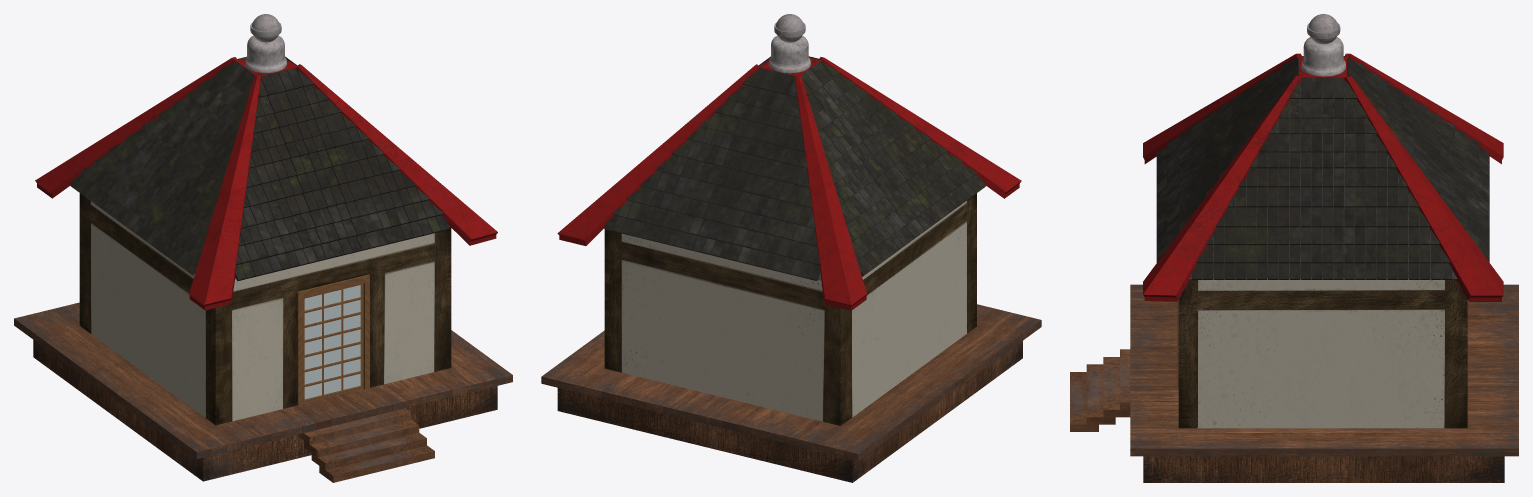
File: casa.obj
3 renders of one model, left to right at view 1: azimuth 30°, elevation 25°; view 2: azimuth 150°, elevation 25°; view 3: azimuth 270°, elevation 25°, orthographic. The views are drawn at different scales.
Parts seen in each view (by area): view 1: BaseCasa_BaseCasa_0, Tejas3_Tejas3_0, Tejas_Tejas_0, TejasSuperiores_TejasSuperiores_0, SoportePrincipal_SoportePrincipal_0, VentanasPuerta_VentanasPuerta_0, PanelE_PanelE_0, PanelO_PanelO_0, PanelJ_PanelJ_0, PuertaMarco_PuertaMarco_0, MarcoPuerta_MarcoPuerta_0, Escalones_Escaleras_0 (+10 smaller); view 2: BaseCasa_BaseCasa_0, Tejas1_Tejas1_0, Tejas_Tejas_0, TejasSuperiores_TejasSuperiores_0, SoportePrincipal_SoportePrincipal_0, PanelE_PanelE_0, PanelO_PanelO_0, PanelJ_PanelJ_0, TejasCortas3_TejasCortas3_0, BaseDeco2_BaseDeco2_0, TejasCortas2_TejasCortas2_0, PanelD_PanelD_0 (+4 smaller); view 3: BaseCasa_BaseCasa_0, Tejas2_Tejas2_0, TejasSuperiores_TejasSuperiores_0, SoportePrincipal_SoportePrincipal_0, Tejas3_Tejas3_0, Tejas1_Tejas1_0, PanelD_PanelD_0, PanelC_PanelC_0, ParteInferior_ParteInferior_0, object 26, TejasCortas1_TejasCortas1_0, BaseDeco2_BaseDeco2_0 (+23 smaller).
Boxes of the visible parts, x1,y1,x2,y2 form: BaseCasa_BaseCasa_0: (79,193,451,425); Tejas3_Tejas3_0: (235,68,449,281); Tejas_Tejas_0: (69,61,254,275); TejasSuperiores_TejasSuperiores_0: (35,57,497,310); SoportePrincipal_SoportePrincipal_0: (33,340,497,481); VentanasPuerta_VentanasPuerta_0: (304,285,360,399); PanelE_PanelE_0: (14,315,211,458); PanelO_PanelO_0: (29,311,226,455); PanelJ_PanelJ_0: (44,307,241,451); PuertaMarco_PuertaMarco_0: (303,283,363,403); MarcoPuerta_MarcoPuerta_0: (297,274,369,405); Escalones_Escaleras_0: (319,445,434,482); BaseCasa_BaseCasa_0: (604,193,976,425); Tejas1_Tejas1_0: (604,67,820,280); Tejas_Tejas_0: (801,61,986,276); TejasSuperiores_TejasSuperiores_0: (557,57,1021,310); SoportePrincipal_SoportePrincipal_0: (557,341,1022,482); PanelE_PanelE_0: (843,316,1041,460); PanelO_PanelO_0: (828,312,1025,457); PanelJ_PanelJ_0: (813,309,1010,453); TejasCortas3_TejasCortas3_0: (626,70,817,246); BaseDeco2_BaseDeco2_0: (768,35,810,73); TejasCortas2_TejasCortas2_0: (803,62,962,242); PanelD_PanelD_0: (541,330,604,386); BaseCasa_BaseCasa_0: (1178,279,1467,428); Tejas2_Tejas2_0: (1192,77,1451,279); TejasSuperiores_TejasSuperiores_0: (1143,53,1503,301); SoportePrincipal_SoportePrincipal_0: (1143,456,1504,482); Tejas3_Tejas3_0: (1156,58,1298,262); Tejas1_Tejas1_0: (1347,58,1489,262); PanelD_PanelD_0: (1130,441,1518,456); PanelC_PanelC_0: (1130,433,1518,440); ParteInferior_ParteInferior_0: (1189,80,1457,278); object 26: (1130,425,1518,432); TejasCortas1_TejasCortas1_0: (1206,79,1440,244); BaseDeco2_BaseDeco2_0: (1301,37,1346,76).
Bounding box in the file's own units: 1074 × 1195 × 1242.
39 materials, 39 textured.
